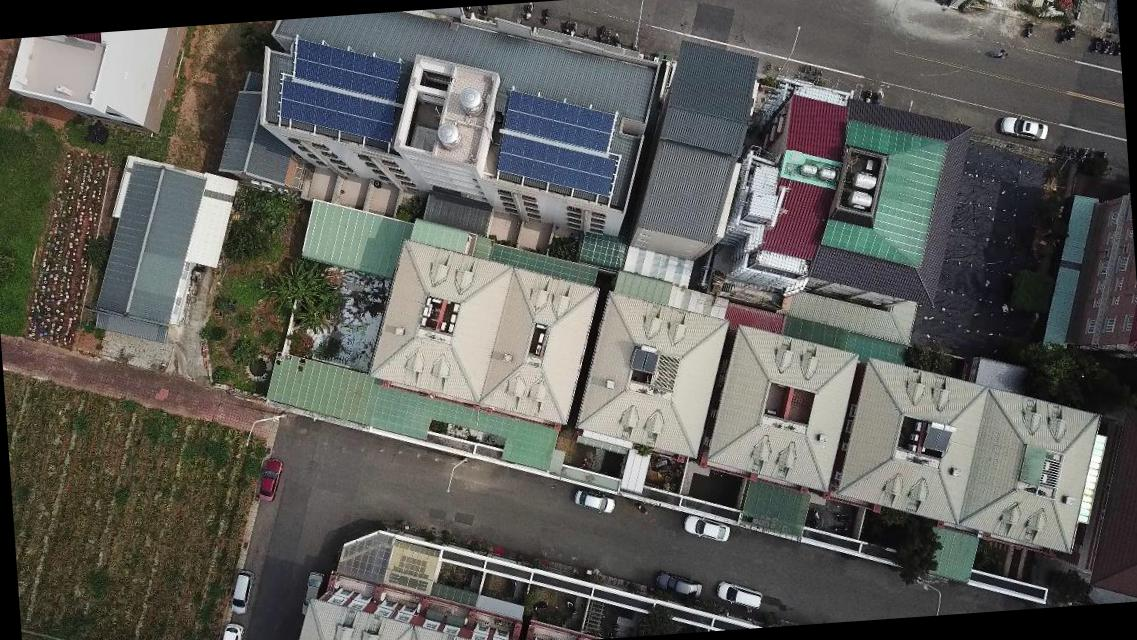vehicle: (714, 576, 763, 614), (997, 112, 1049, 146), (680, 511, 731, 544), (655, 570, 702, 602), (570, 486, 616, 517), (296, 570, 326, 616), (228, 568, 256, 614), (256, 458, 283, 503), (215, 621, 248, 639)
